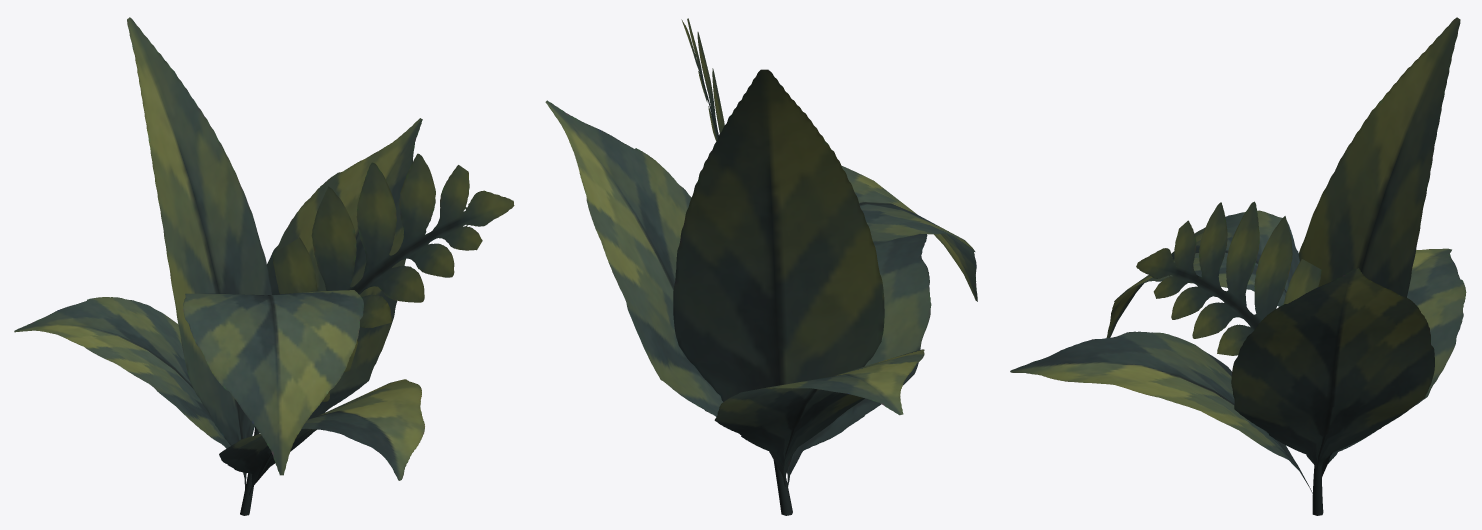
Rendered from SM_FR_BushUpright.fbx.
3 views of the same model, side by side, from view 1: azimuth 30°, elevation 25°; view 2: azimuth 150°, elevation 25°; view 3: azimuth 270°, elevation 25° (orthographic). The views are drawn at different scales.
Parts seen in each view (by area): view 1: SM_FR_BushUpright; view 2: SM_FR_BushUpright; view 3: SM_FR_BushUpright.
Boxes of the visible parts, x1,y1,x2,y2 form: SM_FR_BushUpright: (14, 17, 514, 515); SM_FR_BushUpright: (545, 18, 977, 515); SM_FR_BushUpright: (1010, 17, 1466, 515).
Size of the model in its own units: 1.2 by 1.43 by 1.26.
1 material, 1 textured.
